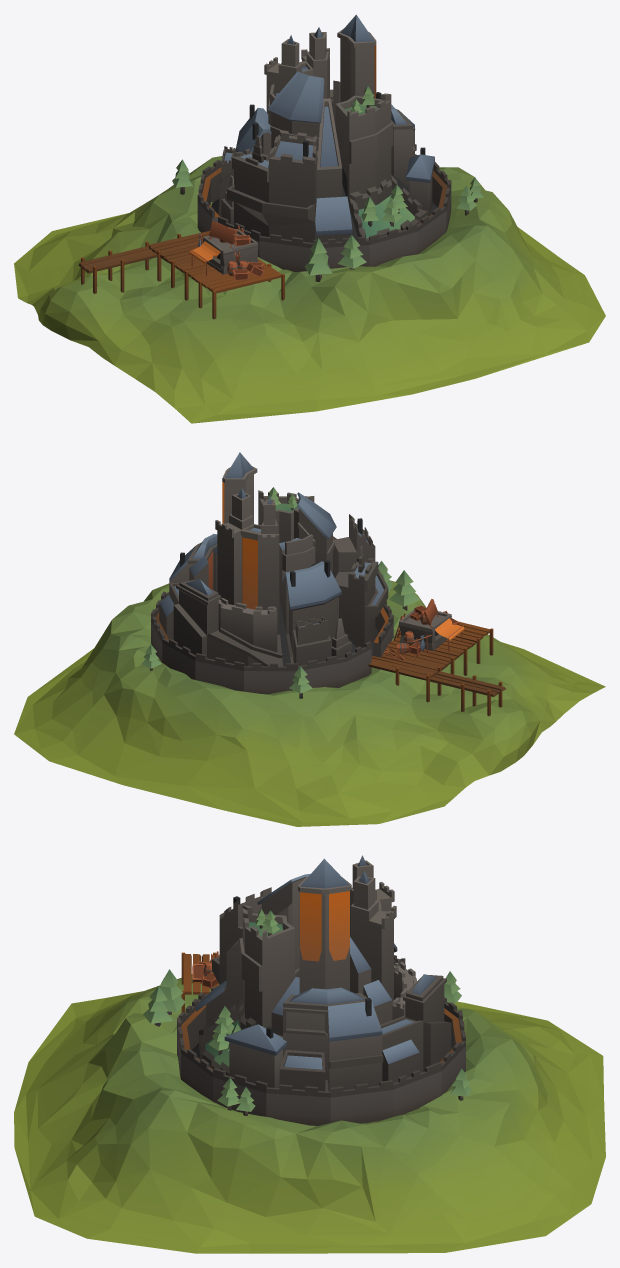
Rendered from port_city.fbx.
The picture shows the model from 3 angles, top to bottom: view 1: azimuth 30°, elevation 25°; view 2: azimuth 150°, elevation 25°; view 3: azimuth 270°, elevation 25°; orthographic projection. The views are drawn at different scales.
Visible parts, largest first — view 1: Shop_Port_Island; view 2: Shop_Port_Island; view 3: Shop_Port_Island.
Boxes of the visible parts, x1=… form: Shop_Port_Island: x1=14, y1=14, x2=605, y2=423; Shop_Port_Island: x1=14, y1=452, x2=605, y2=826; Shop_Port_Island: x1=14, y1=855, x2=605, y2=1253.
Size of what is drawn, in the model's own units: 4210 by 2227 by 3978.
